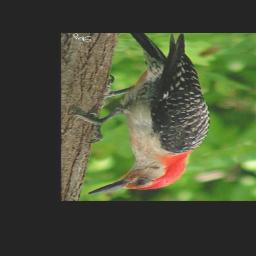Woodpecker: (67, 32, 211, 195)
